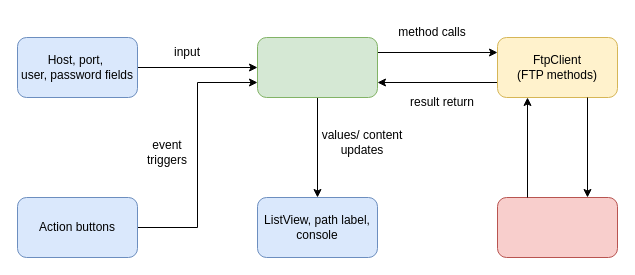
The diagram is 635 pixels wide and 275 high, and some of its shapes have lost their labels. Here are the shapes that lost their labels. From the top down, the centre of each, then its label:
At point (317, 67): "Controller (event methods)".
At point (557, 227): "FTP server".
